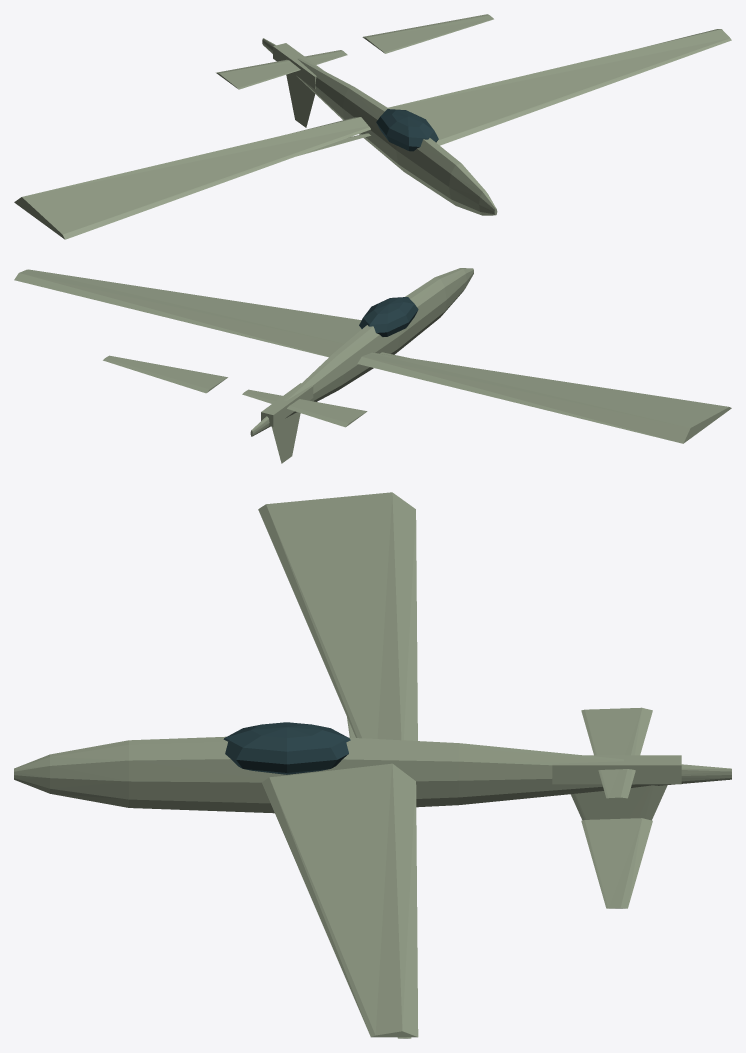
The picture shows the model from 3 angles, top to bottom: view 1: azimuth 30°, elevation 25°; view 2: azimuth 150°, elevation 25°; view 3: azimuth 270°, elevation 25°; orthographic projection. The views are drawn at different scales.
Visible parts, largest first — view 1: Wing_L, Wing_R, Fuselage, Elevator_R, Cockpit, Elevator_L, Rudder, TailBoom; view 2: Wing_L, Wing_R, Fuselage, Elevator_R, Cockpit, Elevator_L, Rudder, TailBoom; view 3: Wing_R, Wing_L, Fuselage, Cockpit, Elevator_R, Elevator_L, TailBoom, Rudder.
Part boxes in pixels (x1,y1,x2,y2): Wing_L: (14,117,370,239); Wing_R: (388,29,731,145); Fuselage: (262,38,497,215); Elevator_R: (362,14,493,53); Cockpit: (376,109,438,151); Elevator_L: (216,50,347,89); Rudder: (286,73,315,127); TailBoom: (273,43,323,88); Wing_L: (357,352,731,443); Wing_R: (14,269,361,357); Fuselage: (250,268,473,436); Elevator_R: (103,355,227,393); Cockpit: (359,297,418,336); Elevator_L: (242,389,367,427); Rudder: (272,412,300,463); TailBoom: (261,383,313,426); Wing_R: (262,763,418,1037); Wing_L: (258,492,417,740); Fuselage: (14,736,731,813); Cockpit: (223,722,350,774); Elevator_R: (581,818,652,908); Elevator_L: (581,707,652,798); TailBoom: (552,755,681,784); Rudder: (571,785,667,820).
Bounding box in the file's own units: 19.2 × 2.23 × 11.
